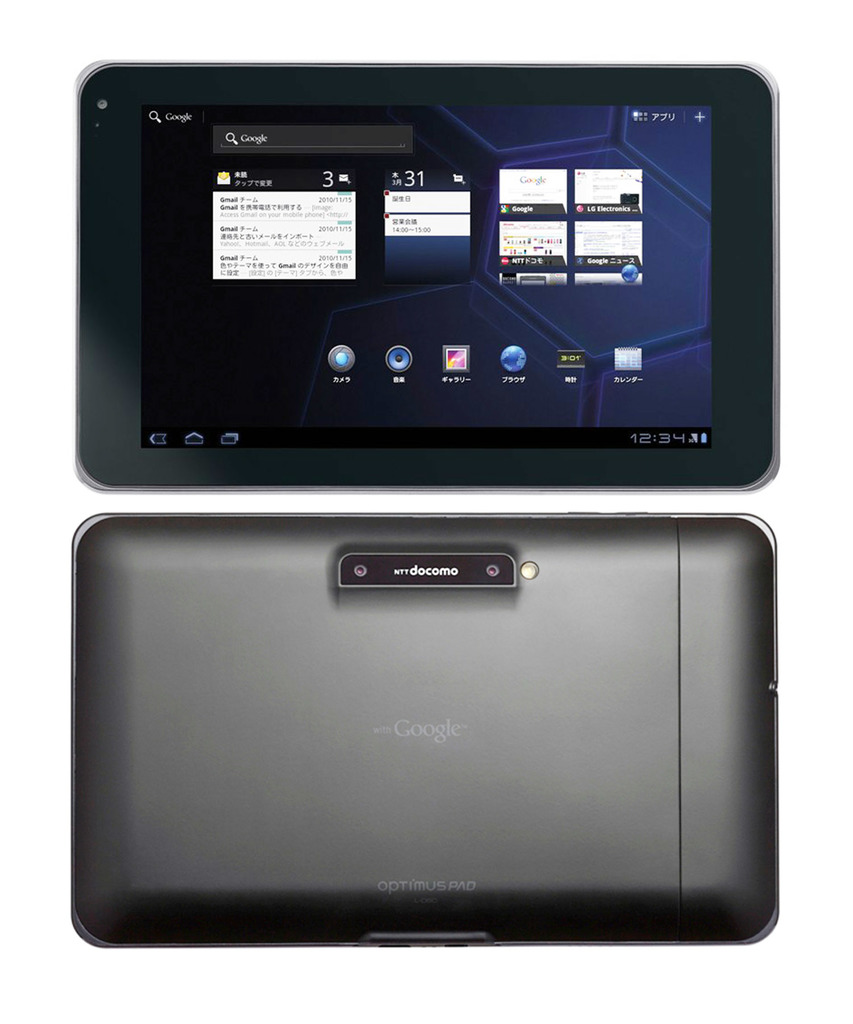Mobile-phone: (67, 510, 787, 950), (100, 86, 776, 468)
